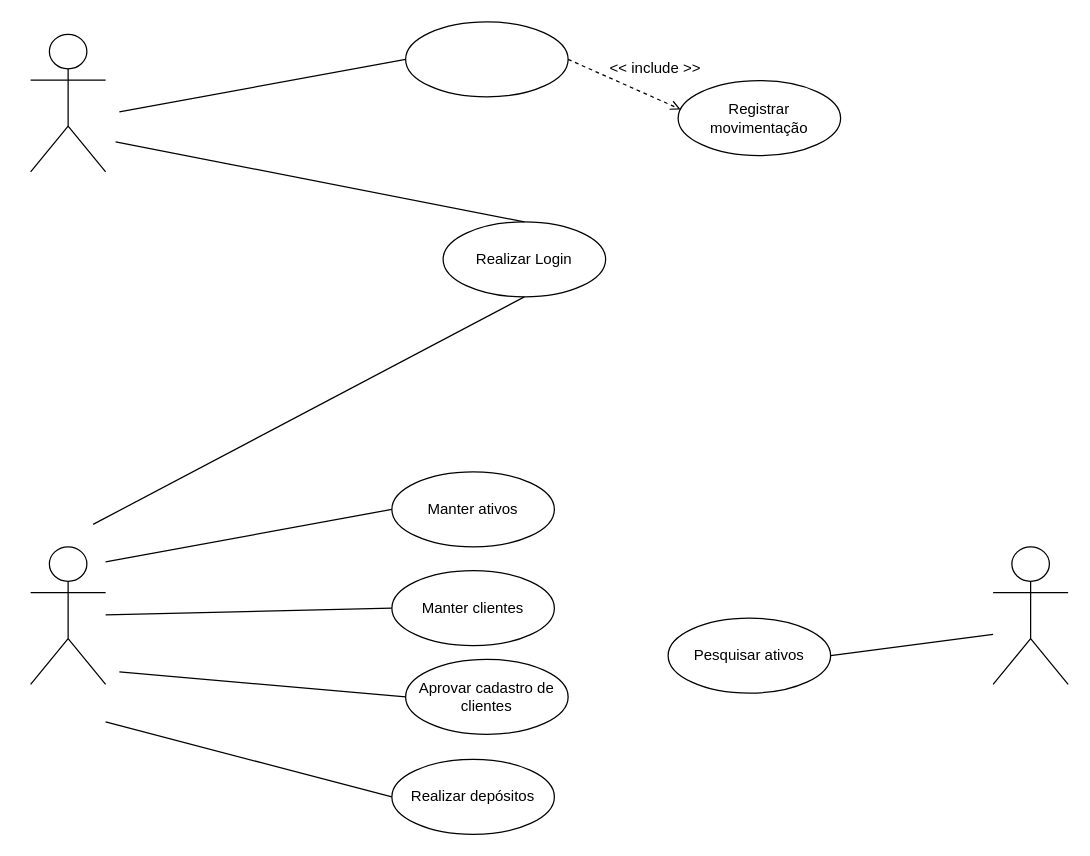
Image size: 1090x856. Some labels were removed from this diagram. The box of each missing label's shape, as (x1, y1, x2, y2) in pixels:
Administrador: (29, 546, 106, 684)
Anônimo: (992, 546, 1068, 684)
Cliente: (29, 33, 106, 172)
Fechar compra: (404, 21, 568, 97)
